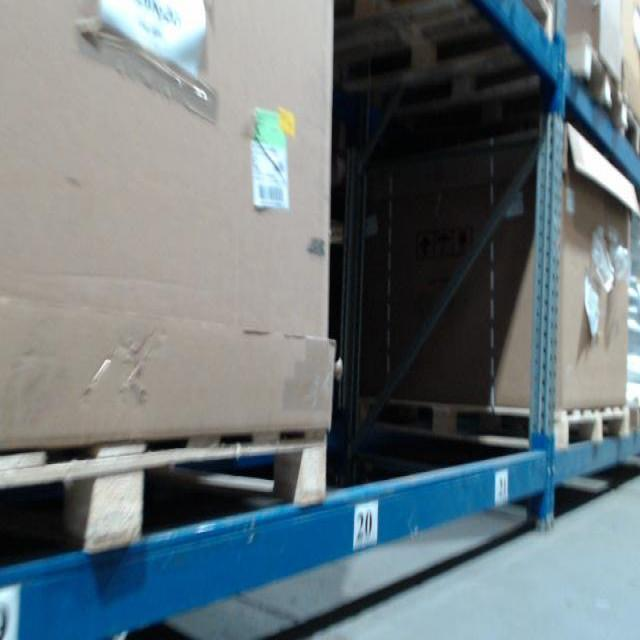pallet: (2, 420, 332, 577), (335, 394, 632, 456), (553, 26, 619, 133), (453, 1, 562, 32), (620, 103, 640, 154)
